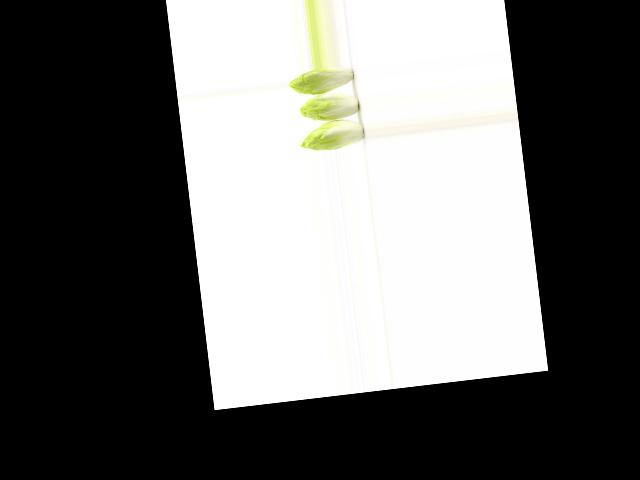lettuce: (297, 117, 368, 153)
